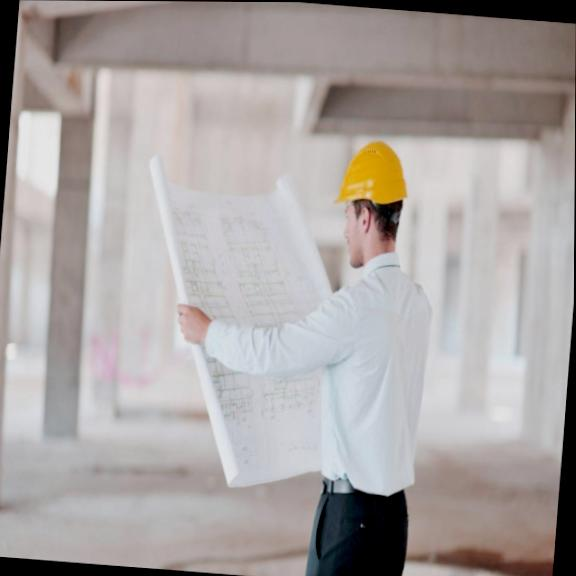no_safety_vest: (302, 242, 443, 499)
